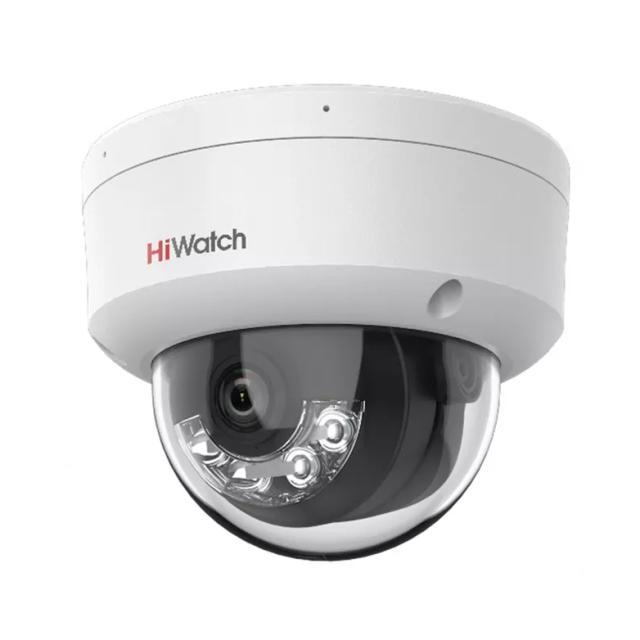hidden camera: (172, 344, 313, 453)
